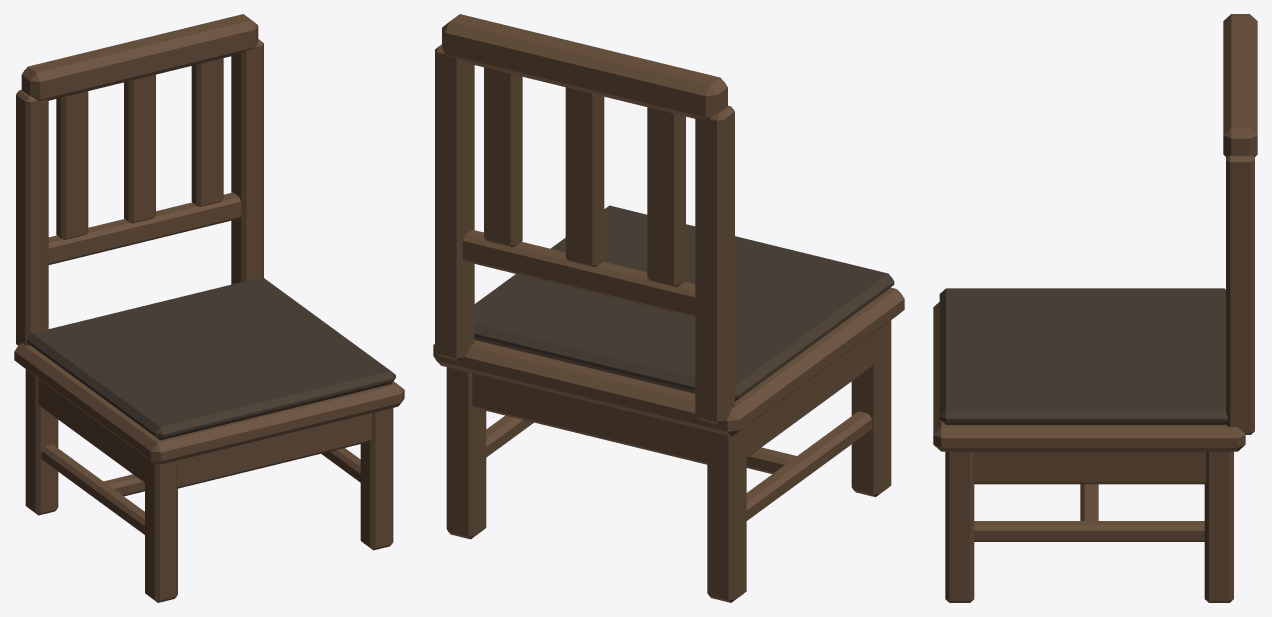
File: WatchmakerChair.fbx
The picture shows the model from 3 angles, left to right: view 1: azimuth 30°, elevation 25°; view 2: azimuth 150°, elevation 25°; view 3: azimuth 270°, elevation 25°; orthographic projection. The views are drawn at different scales.
Parts seen in each view (by area): view 1: ChairSeat, Chair timber seat, Back top rail, Back upright, Back upright.001, Seat apron, Back lower rail, Back slat, Back slat.002, Back slat.001, Front left leg, Front right leg (+5 smaller); view 2: ChairSeat, Chair timber seat, Back top rail, Back upright, Back upright.001, Seat apron.001, Back lower rail, Back slat.001, Back slat, Back slat.002, Rear left leg, Rear right leg (+5 smaller); view 3: ChairSeat, Chair timber seat, Side apron.001, Back upright.001, Back top rail, Side stretcher.001, Rear right leg, Front right leg, Lower cross stretcher.
Part boxes in pixels (x1=…): ChairSeat: x1=27, y1=277, x2=395, y2=440; Chair timber seat: x1=14, y1=343, x2=404, y2=465; Back top rail: x1=21, y1=14, x2=258, y2=100; Back upright: x1=16, y1=90, x2=48, y2=346; Back upright.001: x1=231, y1=39, x2=263, y2=284; Seat apron: x1=177, y1=413, x2=371, y2=488; Back lower rail: x1=48, y1=192, x2=241, y2=264; Back slat: x1=56, y1=91, x2=88, y2=239; Back slat.002: x1=191, y1=58, x2=223, y2=206; Back slat.001: x1=124, y1=74, x2=155, y2=223; Front left leg: x1=145, y1=456, x2=177, y2=602; Front right leg: x1=360, y1=408, x2=393, y2=550; ChairSeat: x1=474, y1=205, x2=894, y2=401; Chair timber seat: x1=433, y1=287, x2=904, y2=436; Back top rail: x1=442, y1=14, x2=727, y2=119; Back upright: x1=695, y1=105, x2=734, y2=424; Back upright.001: x1=435, y1=44, x2=474, y2=360; Seat apron.001: x1=472, y1=373, x2=707, y2=464; Back lower rail: x1=462, y1=229, x2=695, y2=317; Back slat.001: x1=565, y1=87, x2=604, y2=266; Back slat: x1=647, y1=107, x2=685, y2=286; Back slat.002: x1=484, y1=67, x2=522, y2=247; Rear left leg: x1=707, y1=426, x2=746, y2=602; Rear right leg: x1=446, y1=367, x2=486, y2=539; ChairSeat: x1=939, y1=288, x2=1227, y2=424; Chair timber seat: x1=933, y1=302, x2=1245, y2=451; Side apron.001: x1=972, y1=451, x2=1206, y2=484; Back upright.001: x1=1226, y1=155, x2=1254, y2=434; Back top rail: x1=1223, y1=14, x2=1257, y2=156; Side stretcher.001: x1=974, y1=521, x2=1204, y2=541; Rear right leg: x1=1204, y1=451, x2=1233, y2=602; Front right leg: x1=945, y1=451, x2=974, y2=602; Lower cross stretcher: x1=1080, y1=484, x2=1098, y2=521.
Size of the model in its own units: 60 by 98 by 61.25.
